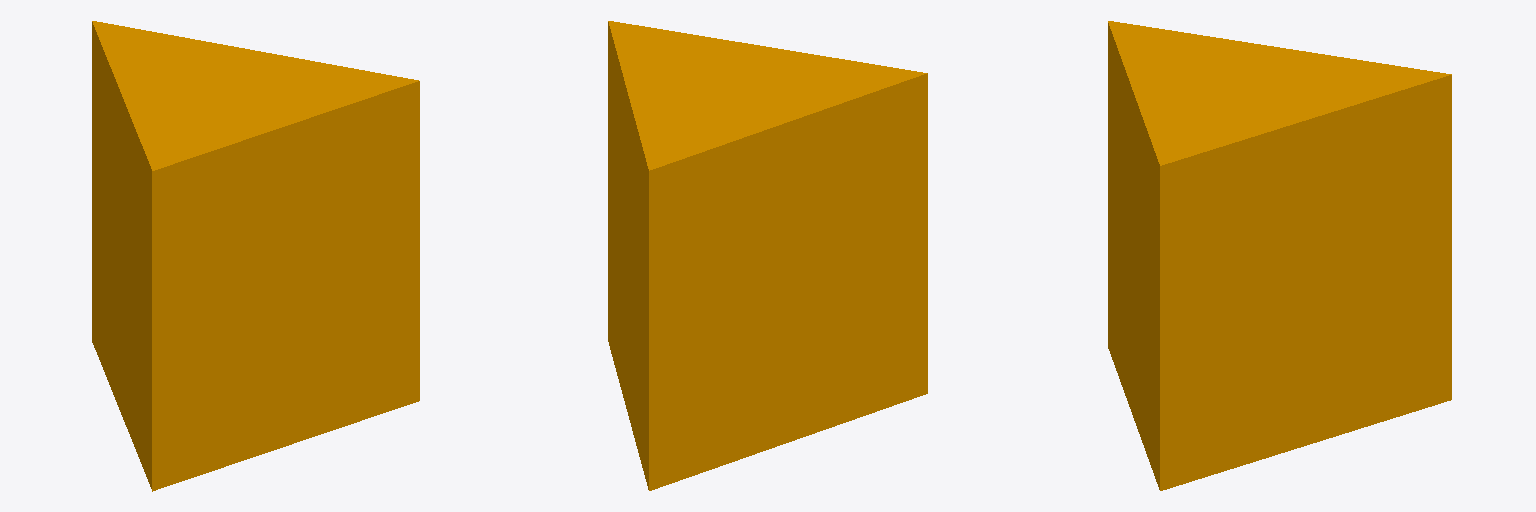
robot.urdf — object:
<?xml version="1.0"?>
<robot name="object">
  <link name="object">
    <visual>
      <origin xyz="0 0 0"/>
      <geometry>
        <mesh filename="meshes/generated/col_076.obj" scale="0.03 0.03 0.03"/>
      </geometry>
    </visual>
    <collision>
      <origin xyz="0 0 0"/>
      <geometry>
        <mesh filename="meshes/generated/col_076.obj" scale="0.03 0.03 0.03"/>
      </geometry>
    </collision>
    <inertial>
      <density value="1000.0"/>
    </inertial>
  </link>
</robot>

--- Render facts (derived) ---
3 views of the same robot in one strip: view 1: azimuth 30°, elevation 25°; view 2: azimuth 150°, elevation 25°; view 3: azimuth 270°, elevation 25° (orthographic).
Model object with 1 links and 0 joints (none), rooted at object, posed every joint at zero.
Links seen in each view (by area): view 1: object; view 2: object; view 3: object.
Boxes of the visible links, x1=… form: object: x1=92, y1=21, x2=419, y2=491; object: x1=608, y1=21, x2=927, y2=490; object: x1=1108, y1=21, x2=1451, y2=490.
Size in the robot's own frame: 0.0576 by 0.0576 by 0.06 metres.
1 mesh visuals loaded from 1 distinct referenced files (1 OBJ).
